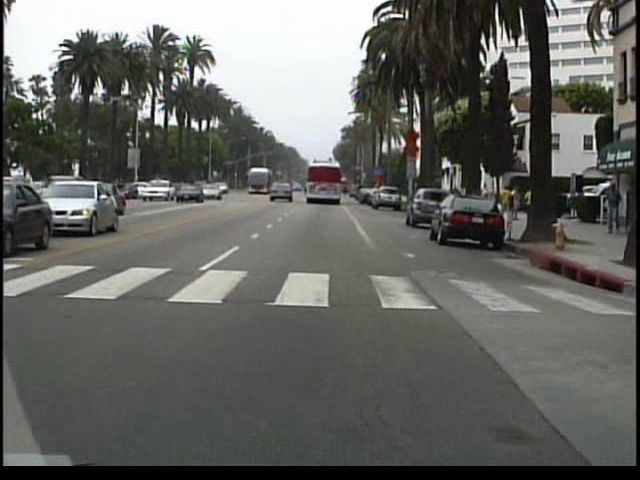person: (598, 176, 623, 239)
